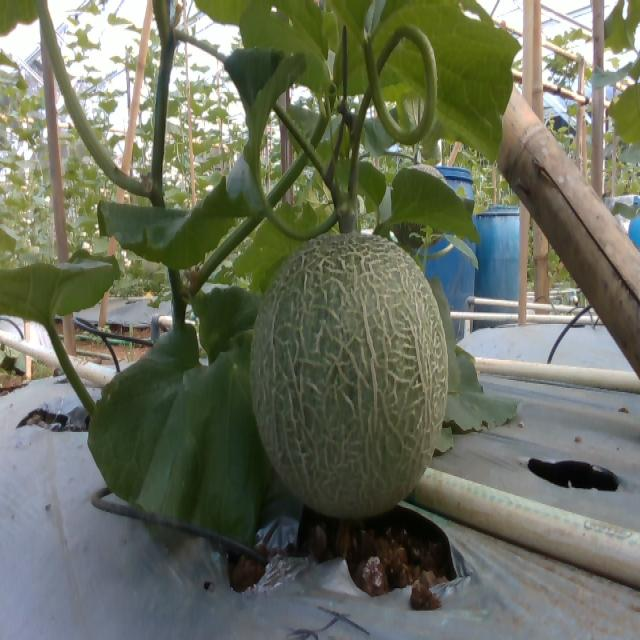melon: (252, 235, 448, 519)
